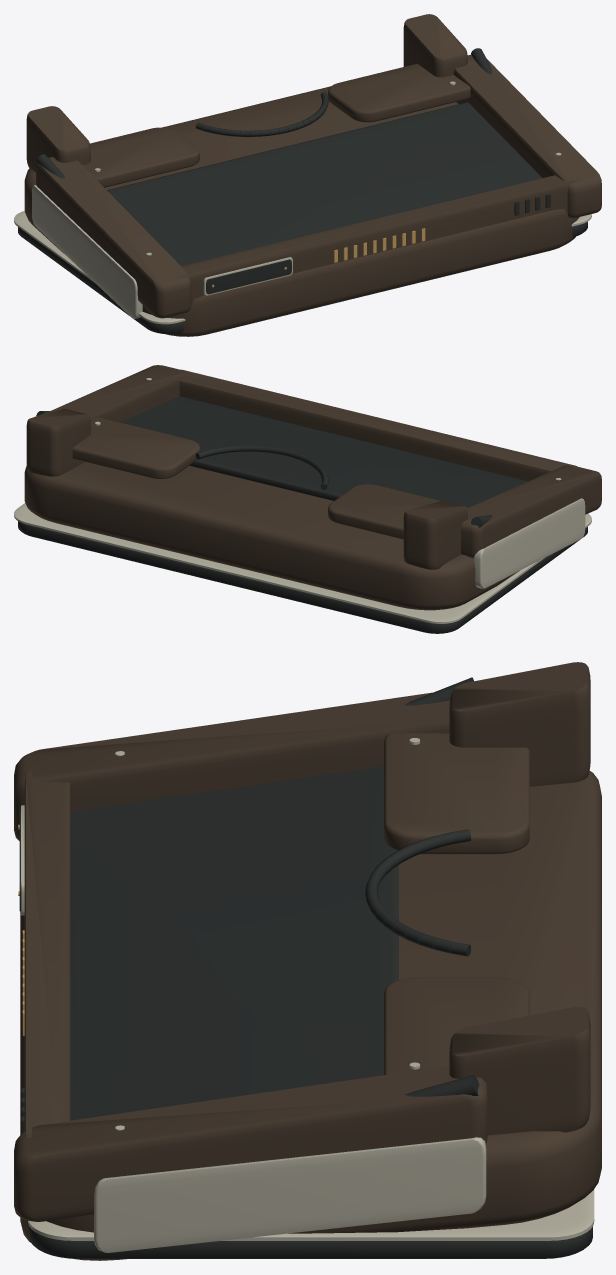
File: Foundry.glb
The picture shows the model from 3 angles, top to bottom: view 1: azimuth 30°, elevation 25°; view 2: azimuth 150°, elevation 25°; view 3: azimuth 270°, elevation 25°; orthographic projection. The views are drawn at different scales.
Parts seen in each view (by area): view 1: Keyboard well, Cast chassis, Enamel cheek (×2), Front fascia, Spool platform (×2), Carriage bearing (×2), Coachwork flange, Rolled lower pan, Maker plate, Chassis parting seam, Badge surround; view 2: Cast chassis, Keyboard well, Front fascia, Enamel cheek (×2), Spool platform (×2), Carriage bearing (×2), Rolled lower pan, Chassis parting seam, Coachwork flange; view 3: Keyboard well, Enamel cheek (×2), Cast chassis, Coachwork flange, Carriage bearing (×2), Spool platform (×2), Front fascia, Rolled lower pan, Chassis parting seam, External frame stay.
Boxes of the visible parts, box(x1,y1,x2,y2) form: Keyboard well: box(107, 102, 542, 266); Cast chassis: box(24, 86, 579, 336); Enamel cheek (×2): box(36, 54, 601, 318); Front fascia: box(177, 175, 578, 310); Spool platform (×2): box(83, 63, 470, 187); Carriage bearing (×2): box(26, 14, 467, 172); Coachwork flange: box(32, 185, 142, 318); Rolled lower pan: box(18, 221, 587, 334); Maker plate: box(206, 259, 291, 294); Chassis parting seam: box(14, 211, 591, 324); Badge surround: box(203, 257, 292, 295); Cast chassis: box(24, 462, 518, 610); Keyboard well: box(120, 396, 527, 507); Front fascia: box(177, 369, 578, 481); Enamel cheek (×2): box(51, 365, 601, 558); Spool platform (×2): box(72, 417, 467, 539); Carriage bearing (×2): box(26, 408, 467, 569); Rolled lower pan: box(18, 521, 587, 633); Chassis parting seam: box(14, 503, 591, 623); Coachwork flange: box(473, 498, 585, 588); Keyboard well: box(70, 766, 398, 1120); Enamel cheek (×2): box(14, 692, 487, 1221); Cast chassis: box(20, 771, 601, 1260); Coachwork flange: box(94, 1137, 486, 1252); Carriage bearing (×2): box(449, 662, 590, 1135); Spool platform (×2): box(384, 733, 529, 1074); Front fascia: box(24, 771, 70, 1137); Rolled lower pan: box(29, 1226, 592, 1258); Chassis parting seam: box(28, 1189, 594, 1240); External frame stay: box(404, 1075, 479, 1096).
Size of the model in its own units: 6.95 by 1.81 by 4.2.
